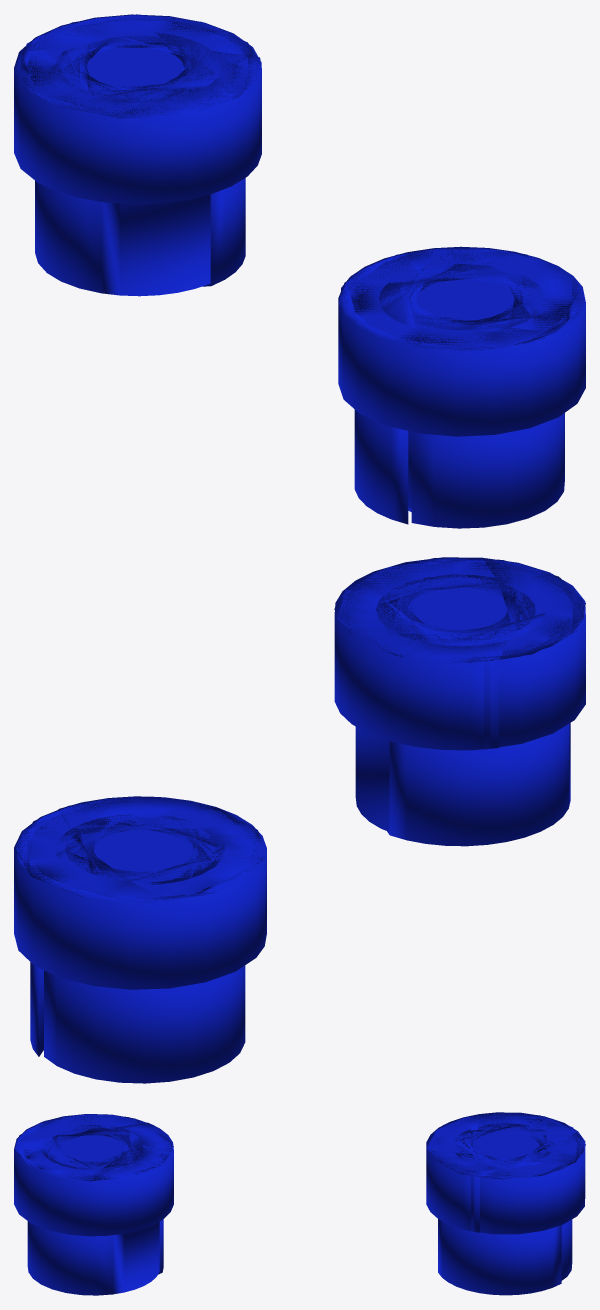
The model's file is tuyeau_element_000018.obj.
The picture shows the model from 3 angles, top to bottom: view 1: azimuth 30°, elevation 25°; view 2: azimuth 150°, elevation 25°; view 3: azimuth 270°, elevation 25°; orthographic projection. The views are drawn at different scales.
Visible parts, largest first — view 1: tuyeau2_Cube.017, tuyeau1_Cube.014; view 2: tuyeau2_Cube.017, tuyeau1_Cube.014; view 3: tuyeau1_Cube.014, tuyeau2_Cube.017.
Boxes of the visible parts, box(x1,y1,x2,y2) form: tuyeau2_Cube.017: box(338, 246, 585, 528); tuyeau1_Cube.014: box(14, 14, 261, 296); tuyeau2_Cube.017: box(334, 557, 585, 846); tuyeau1_Cube.014: box(14, 796, 266, 1083); tuyeau1_Cube.014: box(426, 1112, 585, 1295); tuyeau2_Cube.017: box(14, 1114, 173, 1295).
Size of the model in its own units: 3599 by 2917 by 12605.
